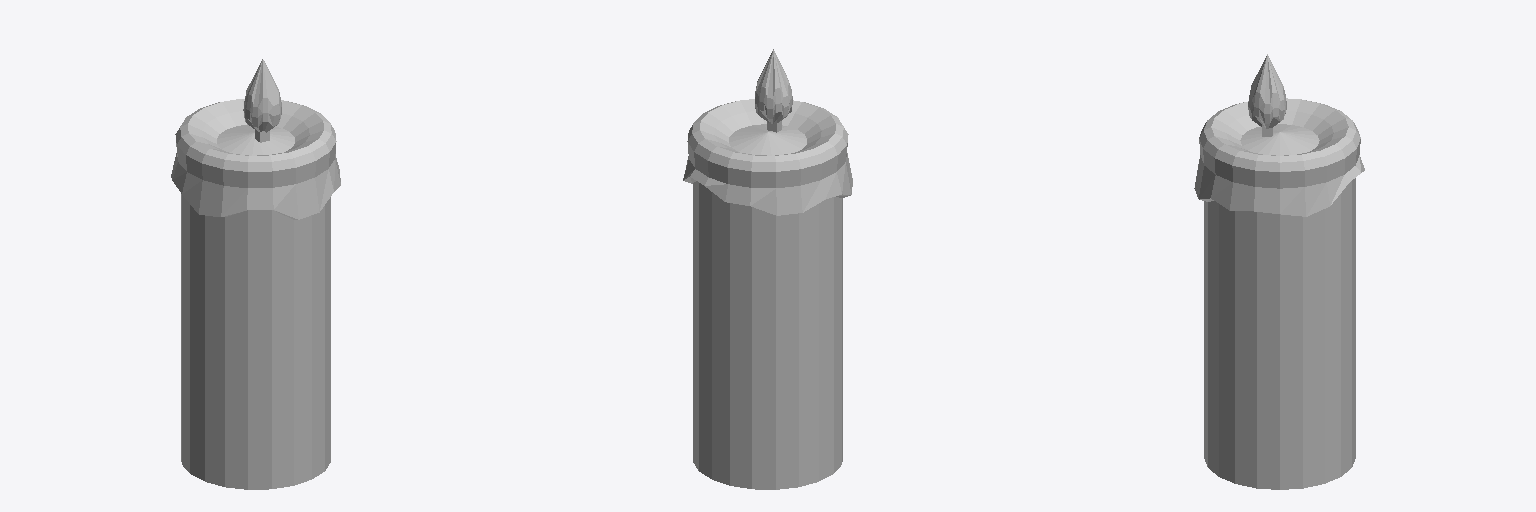
The model's file is candle.obj.
The picture shows the model from 3 angles: view 1: azimuth 30°, elevation 25°; view 2: azimuth 150°, elevation 25°; view 3: azimuth 270°, elevation 25°; orthographic projection.
Bounding box in the file's own units: 0.9069 × 2.36 × 0.9069.